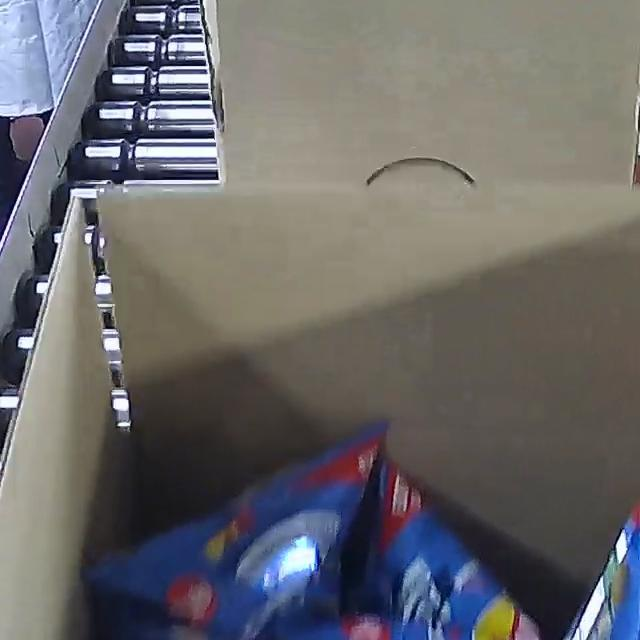paprika: (74, 422, 640, 640)
